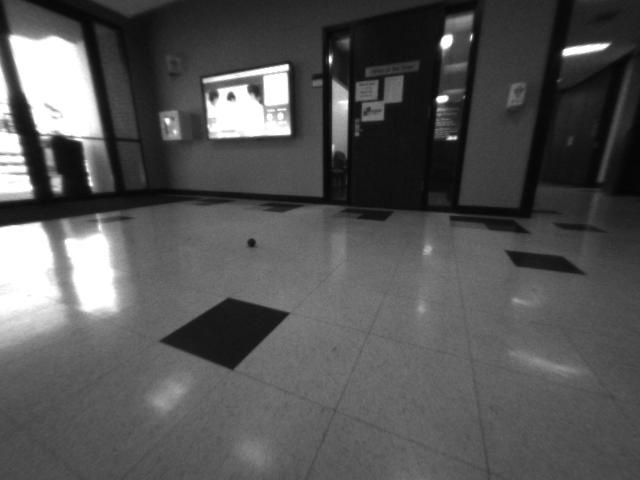dogtoy: (238, 230, 266, 253)
